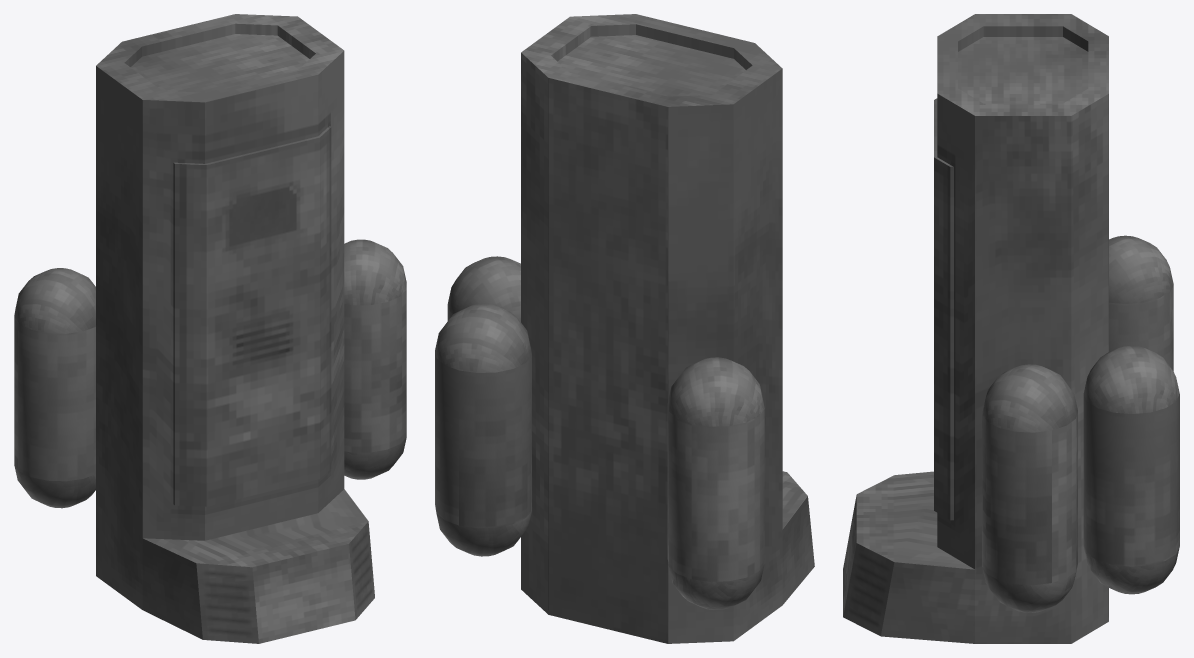
File: cryopod.fbx
3 views of the same model, side by side, from view 1: azimuth 30°, elevation 25°; view 2: azimuth 150°, elevation 25°; view 3: azimuth 270°, elevation 25° (orthographic). The views are drawn at different scales.
Visible parts, largest first — view 1: Cube.004; view 2: Cube.004; view 3: Cube.004.
Part boxes in pixels (x1,y1,x2,y2): Cube.004: (14, 14, 406, 643); Cube.004: (435, 14, 814, 643); Cube.004: (843, 14, 1179, 643).
Size of the model in its own units: 299 by 435 by 251.
1 material, 1 textured.
